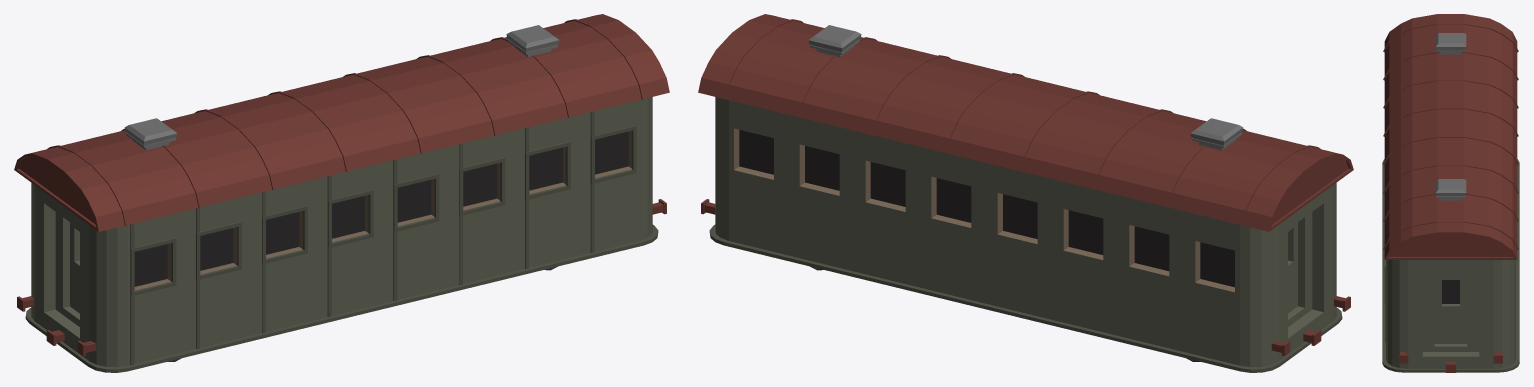
The model's file is Locomotive Passenger Wagon.glb.
The picture shows the model from 3 angles, left to right: view 1: azimuth 30°, elevation 25°; view 2: azimuth 150°, elevation 25°; view 3: azimuth 270°, elevation 25°; orthographic projection. The views are drawn at different scales.
Visible parts, largest first — view 1: Locomotive_PassengerWagon; view 2: Locomotive_PassengerWagon; view 3: Locomotive_PassengerWagon.
Part boxes in pixels (x1,y1,x2,y2): Locomotive_PassengerWagon: (14, 14, 669, 372); Locomotive_PassengerWagon: (698, 14, 1353, 372); Locomotive_PassengerWagon: (1382, 14, 1519, 372).
Size of the model in its own units: 8.06 by 2.95 by 2.1.
